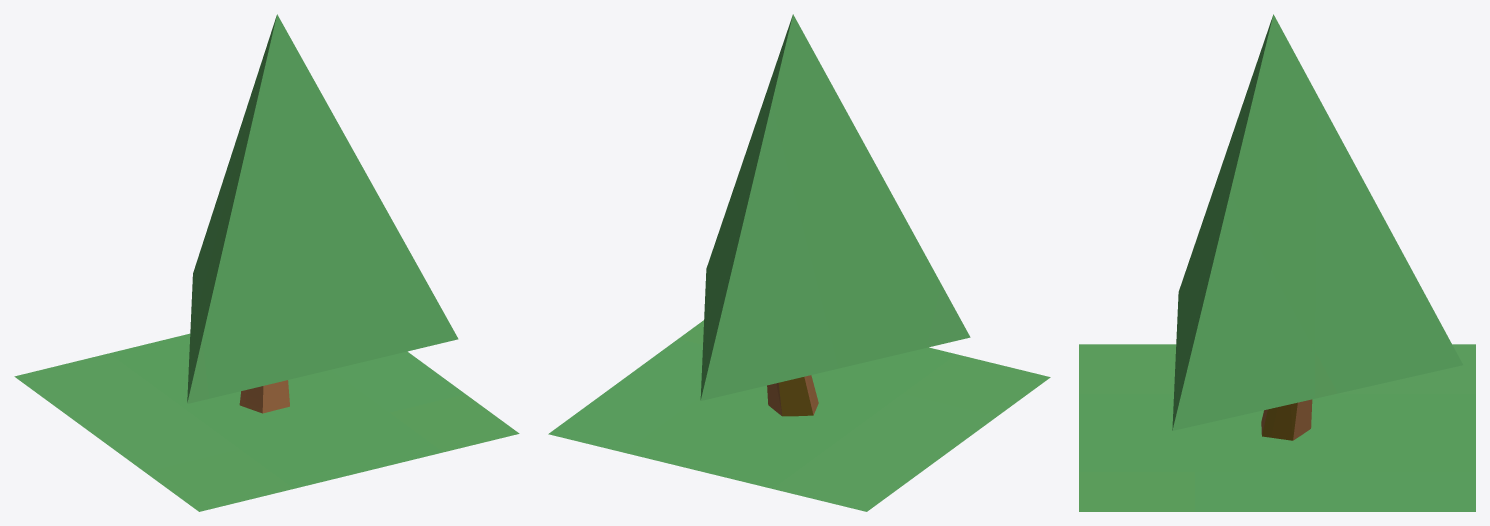
File: tree_1.glb
3 views of the same model, side by side, from view 1: azimuth 30°, elevation 25°; view 2: azimuth 150°, elevation 25°; view 3: azimuth 270°, elevation 25° (orthographic). The views are drawn at different scales.
Parts seen in each view (by area): view 1: Cylinder, Plane; view 2: Cylinder, Plane; view 3: Cylinder, Plane.
Boxes of the visible parts, x1,y1,x2,y2 form: Cylinder: (187,14,458,413); Plane: (14,333,519,511); Cylinder: (700,14,970,416); Plane: (548,320,1050,511); Cylinder: (1172,14,1462,440); Plane: (1079,344,1475,511).
Size of the model in its own units: 4 by 4.66 by 4.
2 materials, 2 textured.
